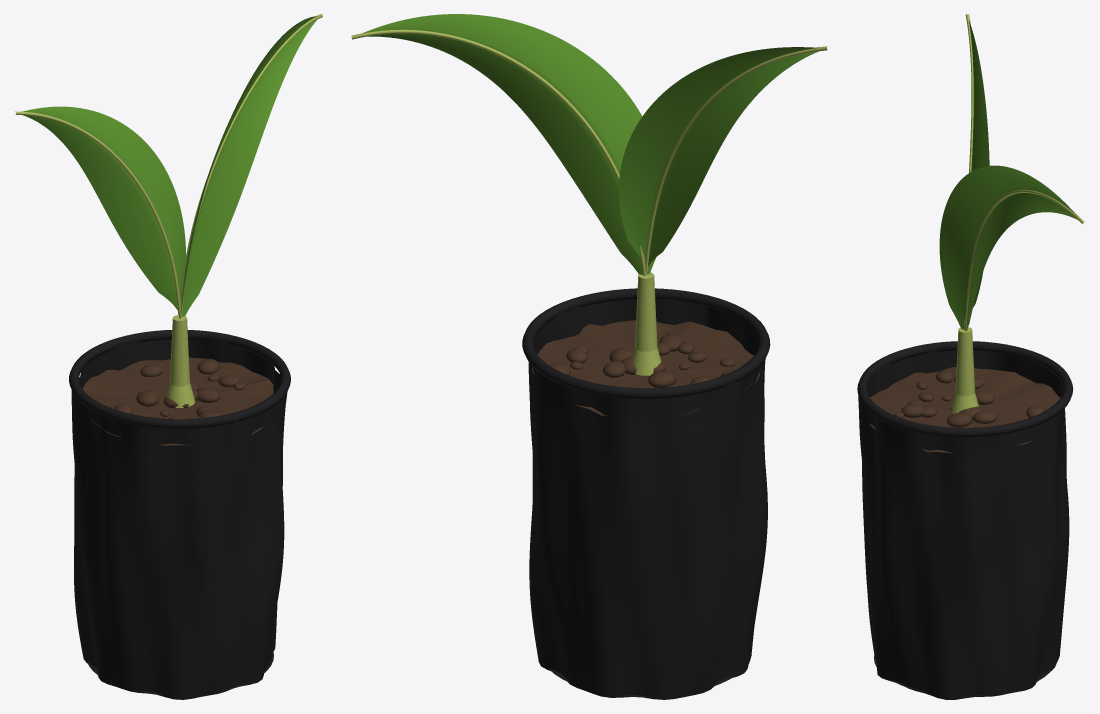
File: bibit-sawit-2-bulan.glb
3 renders of one model, left to right at view 1: azimuth 30°, elevation 25°; view 2: azimuth 150°, elevation 25°; view 3: azimuth 270°, elevation 25°, orthographic. The views are drawn at different scales.
Parts seen in each view (by area): view 1: polybag, daun_helai_2, daun_helai_1, tanah_permukaan, polybag_bibir, batang, daun_helai_2_tulang, daun_helai_1_tulang, seludang; view 2: polybag, daun_helai_1, daun_helai_2, tanah_permukaan, polybag_bibir, daun_helai_1_tulang, batang, daun_helai_2_tulang; view 3: polybag, daun_helai_1, tanah_permukaan, polybag_bibir, daun_helai_2, batang, daun_helai_1_tulang, daun_helai_2_tulang, seludang.
Boxes of the visible parts, box(x1,y1,x2,y2) form: polybag: box(71, 339, 287, 699); daun_helai_2: box(22, 106, 185, 310); daun_helai_1: box(180, 16, 317, 318); tanah_permukaan: box(82, 357, 273, 445); polybag_bibir: box(69, 330, 290, 428); batang: box(170, 315, 189, 386); daun_helai_2_tulang: box(15, 111, 181, 314); daun_helai_1_tulang: box(179, 14, 322, 318); seludang: box(166, 383, 195, 407); polybag: box(528, 298, 767, 699); daun_helai_1: box(362, 14, 656, 274); daun_helai_2: box(618, 47, 818, 266); tanah_permukaan: box(532, 320, 759, 415); polybag_bibir: box(522, 288, 770, 398); daun_helai_1_tulang: box(351, 29, 646, 275); batang: box(635, 272, 657, 351); daun_helai_2_tulang: box(645, 46, 827, 271); polybag: box(858, 350, 1069, 699); daun_helai_1: box(939, 165, 1078, 331); tanah_permukaan: box(869, 367, 1060, 453); polybag_bibir: box(857, 341, 1073, 437); daun_helai_2: box(969, 20, 989, 307); batang: box(955, 327, 974, 396); daun_helai_1_tulang: box(964, 189, 1084, 330); daun_helai_2_tulang: box(963, 14, 973, 326); seludang: box(950, 392, 978, 413).
Bounding box in the file's own units: 0.2073 × 0.3152 × 0.1147.
